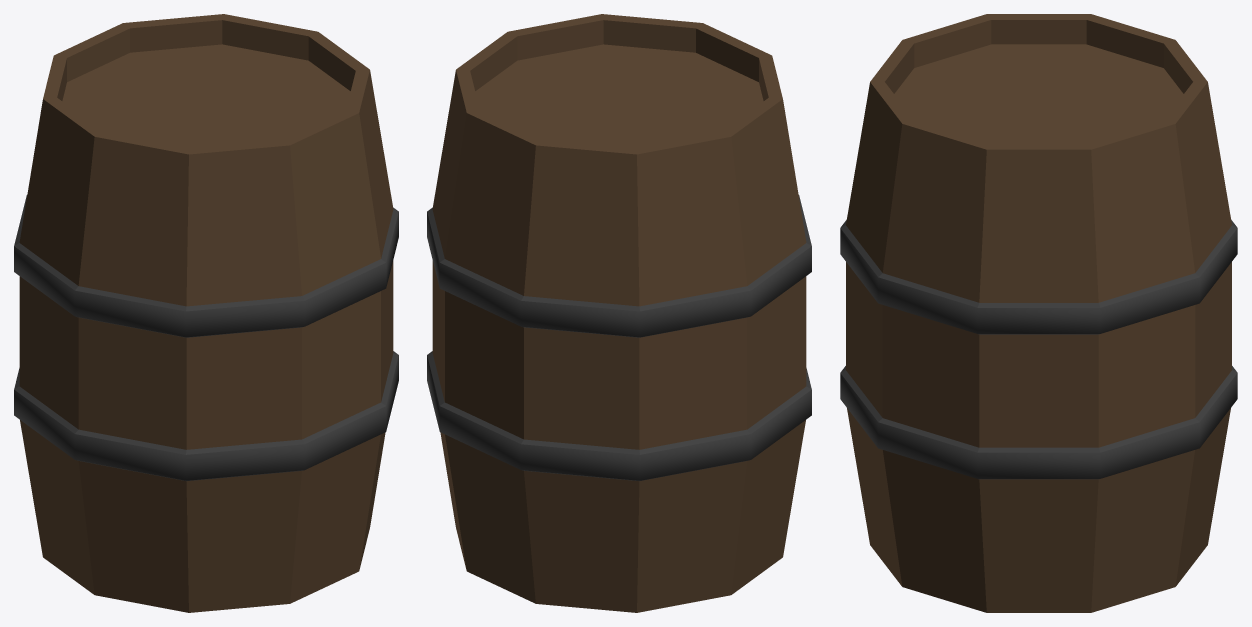
The model's file is Barrel.fbx.
3 views of the same model, side by side, from view 1: azimuth 30°, elevation 25°; view 2: azimuth 150°, elevation 25°; view 3: azimuth 270°, elevation 25° (orthographic).
Parts seen in each view (by area): view 1: Barrel; view 2: Barrel; view 3: Barrel.
Part boxes in pixels (x1,y1,x2,y2): Barrel: [14, 14, 398, 612]; Barrel: [427, 14, 811, 612]; Barrel: [840, 14, 1237, 612].
Bounding box in the file's own units: 65.16 × 88.09 × 68.51.
